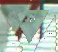Give way: (0, 0, 51, 44)
